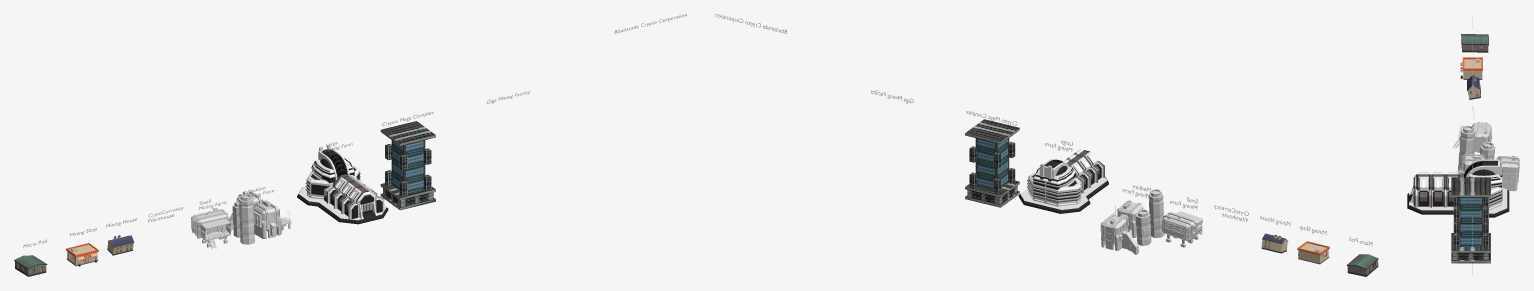
The model's file is farms 1.1.fbx.
The picture shows the model from 3 angles, left to right: view 1: azimuth 30°, elevation 25°; view 2: azimuth 150°, elevation 25°; view 3: azimuth 270°, elevation 25°; orthographic projection. The views are drawn at different scales.
Visible parts, largest first — view 1: model 10, model 9, CyberneticFactory_Foundation_Angar, model 8, CyberneticFactory_Foundation_Body, CyberneticFactory_Foundation, CyberneticFactory_Foundation_Head, model 5, 3DSMeshMatrix.018, model 2; view 2: model 10, model 9, CyberneticFactory_Foundation_Body, model 8, CyberneticFactory_Foundation_Angar, CyberneticFactory_Foundation, 3DSMeshMatrix.018, model 5, model 2; view 3: model 10, model 9, CyberneticFactory_Foundation_Angar, CyberneticFactory_Foundation, model 5, CyberneticFactory_Foundation_Head, model 8, CyberneticFactory_Foundation_Body, 3DSMeshMatrix.018, model 2.
Part boxes in pixels (left/top/right/bottom): model 10: left=380, top=121, right=435, bottom=210; model 9: left=228, top=191, right=291, bottom=244; CyberneticFactory_Foundation_Angar: left=325, top=174, right=384, bottom=219; model 8: left=191, top=207, right=230, bottom=249; CyberneticFactory_Foundation_Body: left=305, top=158, right=360, bottom=199; CyberneticFactory_Foundation: left=297, top=186, right=388, bottom=224; CyberneticFactory_Foundation_Head: left=318, top=148, right=349, bottom=180; model 5: left=14, top=255, right=47, bottom=276; 3DSMeshMatrix.018: left=66, top=243, right=98, bottom=266; model 2: left=107, top=235, right=134, bottom=255; model 10: left=965, top=119, right=1019, bottom=207; model 9: left=1100, top=189, right=1164, bottom=254; CyberneticFactory_Foundation_Body: left=1027, top=166, right=1081, bottom=206; model 8: left=1161, top=211, right=1202, bottom=247; CyberneticFactory_Foundation_Angar: left=1063, top=149, right=1104, bottom=193; CyberneticFactory_Foundation: left=1018, top=177, right=1108, bottom=213; 3DSMeshMatrix.018: left=1297, top=241, right=1329, bottom=264; model 5: left=1346, top=254, right=1378, bottom=276; model 2: left=1261, top=233, right=1288, bottom=253; model 10: left=1451, top=177, right=1490, bottom=263; model 9: left=1457, top=125, right=1519, bottom=191; CyberneticFactory_Foundation_Angar: left=1409, top=171, right=1463, bottom=207; CyberneticFactory_Foundation: left=1407, top=188, right=1509, bottom=217; model 5: left=1461, top=34, right=1488, bottom=52; CyberneticFactory_Foundation_Head: left=1464, top=159, right=1499, bottom=177; model 8: left=1453, top=121, right=1491, bottom=153; CyberneticFactory_Foundation_Body: left=1465, top=167, right=1502, bottom=210; 3DSMeshMatrix.018: left=1462, top=57, right=1482, bottom=79; model 2: left=1467, top=75, right=1480, bottom=99.
Bounding box in the file's own units: 851876 × 151615 × 122150.
23 materials, 3 textured.
